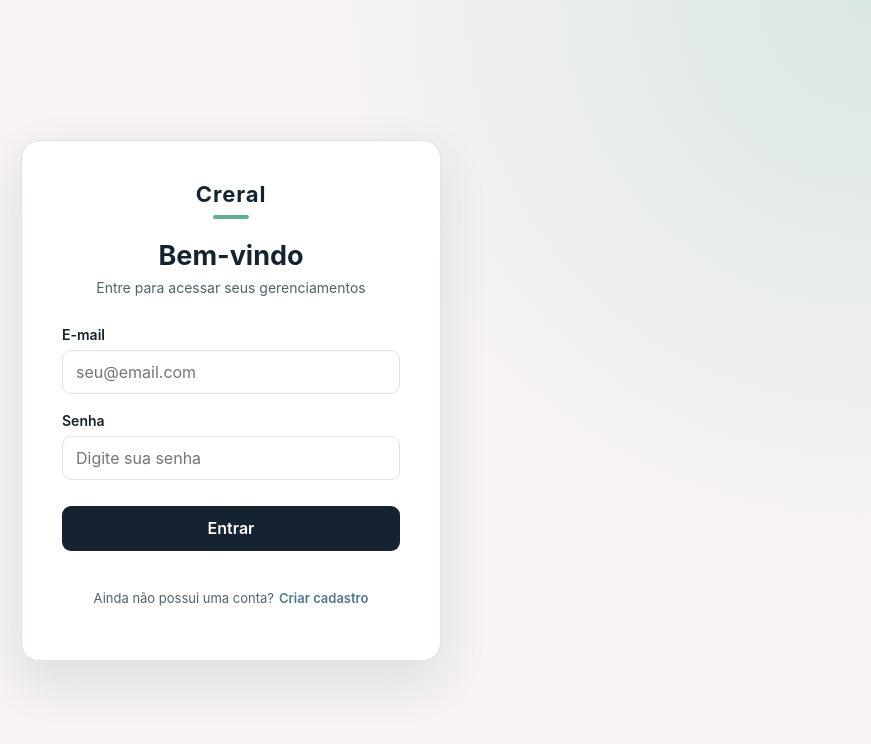
AUT-08: falha ao gravar token restaura cache anterior=false e mantém login
Type "ana@example.test" into the field with placeholder "seu@email.com". click: (231, 372)
box: [62, 350, 400, 394]
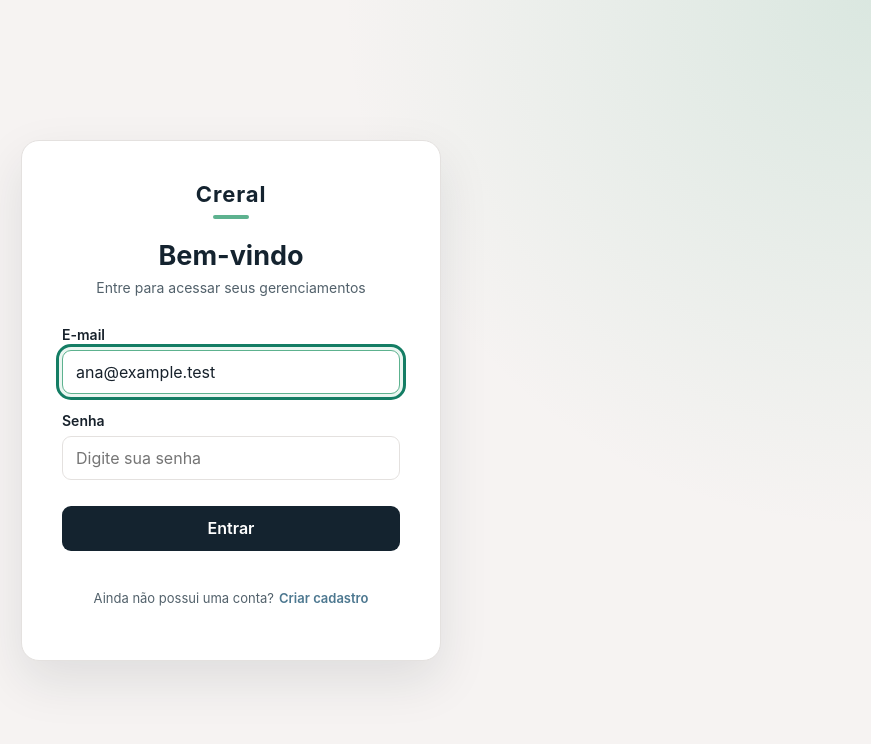
Type "senha-ficticia" into the password field with placeholder "Digite sua senha". click: (231, 458)
box: [62, 436, 400, 480]
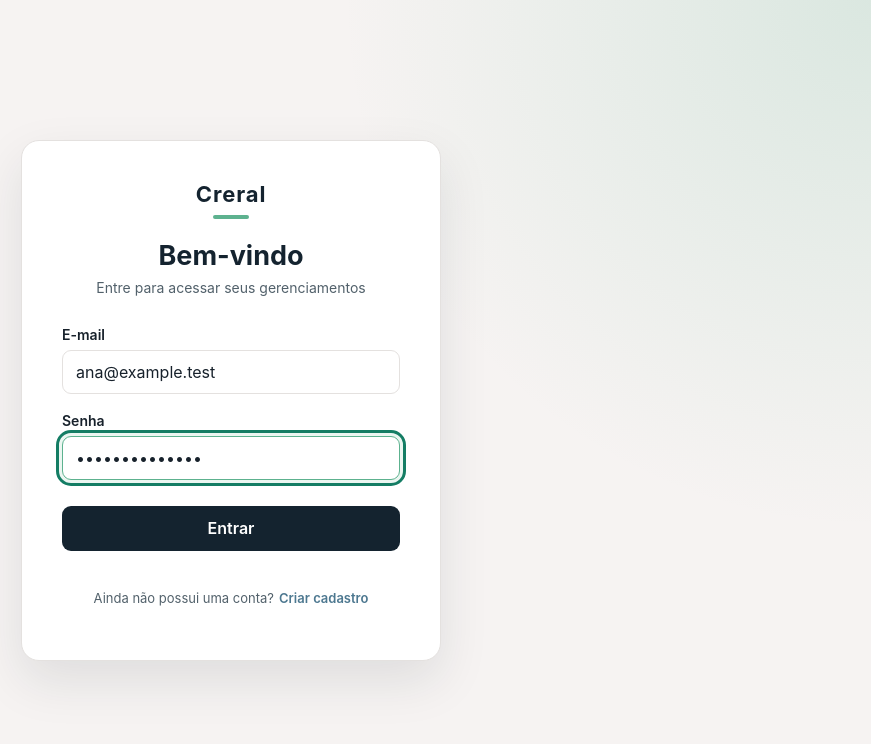
Click the button "Entrar". click: (231, 528)
box: [62, 506, 400, 550]
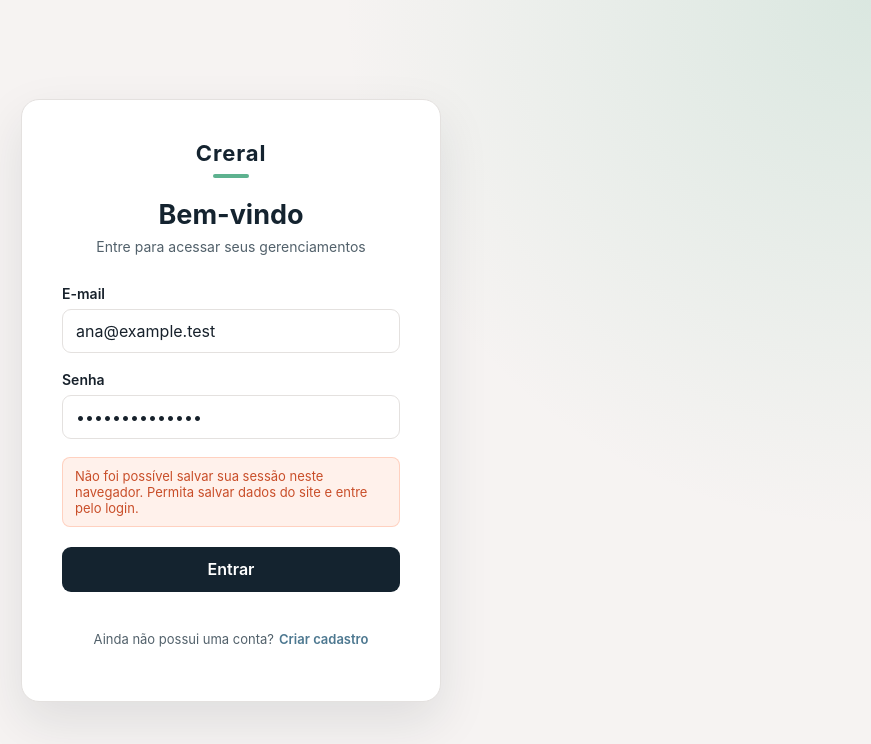
Expected: the heading "Bem-vindo" is shown, [158, 198, 304, 230]
Result: the text "Não foi possível salvar sua sessão neste navegador. Permita salvar dados do site e entre pelo login." is shown at [75, 468, 367, 516]
